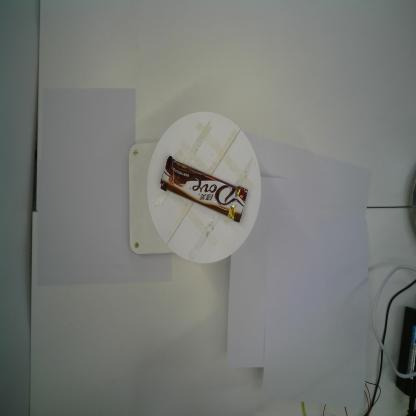Chocolate: (159, 155, 249, 223)
